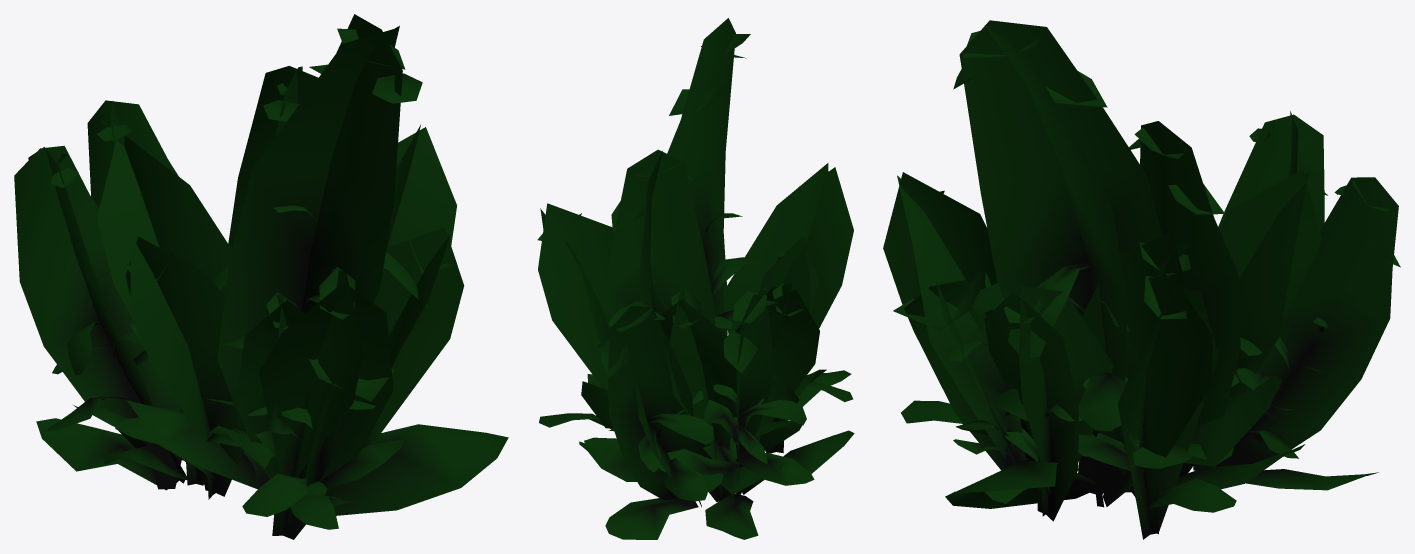
Rendered from FlowersWhiteGCATA_E.fbx.
The picture shows the model from 3 angles, left to right: view 1: azimuth 30°, elevation 25°; view 2: azimuth 150°, elevation 25°; view 3: azimuth 270°, elevation 25°; orthographic projection. The views are drawn at different scales.
Visible parts, largest first — view 1: FWGCATAE_LOD0; view 2: FWGCATAE_LOD0; view 3: FWGCATAE_LOD0.
Part boxes in pixels (x1=…): FWGCATAE_LOD0: x1=14, y1=14, x2=508, y2=539; FWGCATAE_LOD0: x1=537, y1=18, x2=854, y2=539; FWGCATAE_LOD0: x1=883, y1=20, x2=1400, y2=539.
Size of what is drawn, in the model's own units: 0.6733 by 0.8848 by 0.8216.
